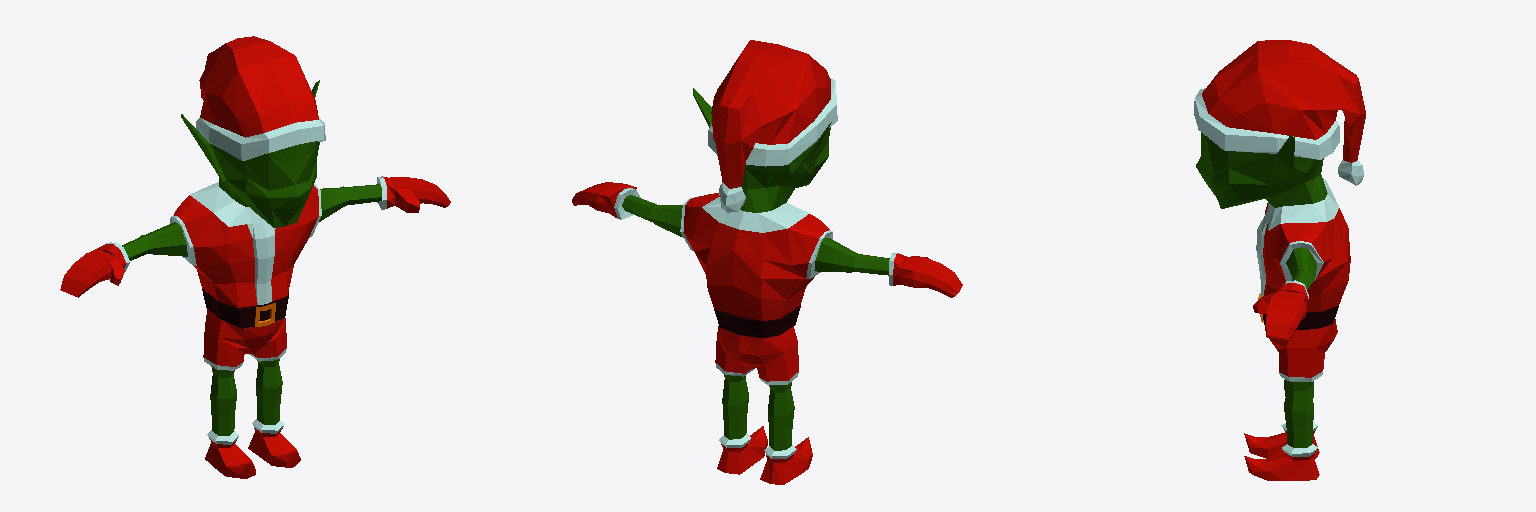
The model's file is char_ELF_9.obj.
The picture shows the model from 3 angles: view 1: azimuth 30°, elevation 25°; view 2: azimuth 150°, elevation 25°; view 3: azimuth 270°, elevation 25°; orthographic projection.
Parts seen in each view (by area): view 1: Cube; view 2: Cube; view 3: Cube.
Part boxes in pixels (x1,y1,x2,y2): Cube: (60,36,450,478); Cube: (572,40,962,484); Cube: (1194,40,1365,480).
Size of the model in its own units: 2.88 by 2.96 by 1.11.